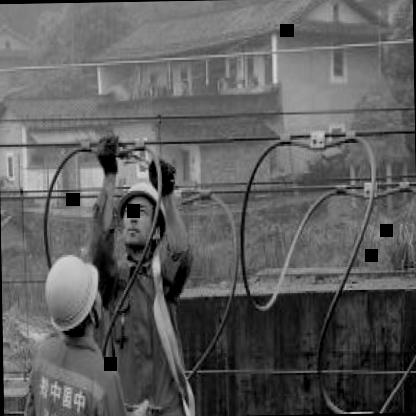helmet: (36, 245, 104, 344), (113, 166, 168, 256)
